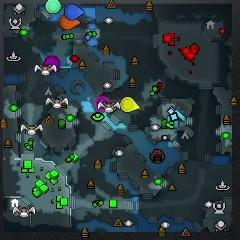Other: (95, 96, 109, 111)
p1: (65, 4, 84, 19)
p2: (45, 0, 61, 14)
p3: (45, 56, 60, 68)
p4: (120, 96, 139, 112)
p5: (60, 15, 81, 30)
x3: (167, 110, 185, 127)
